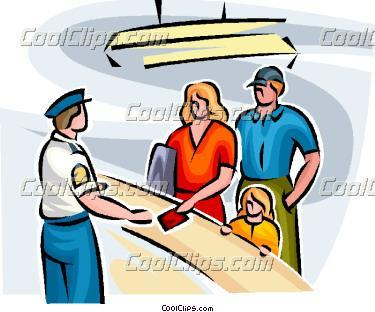person: (232, 62, 321, 277), (26, 82, 110, 304), (155, 74, 237, 227), (224, 183, 289, 262)
